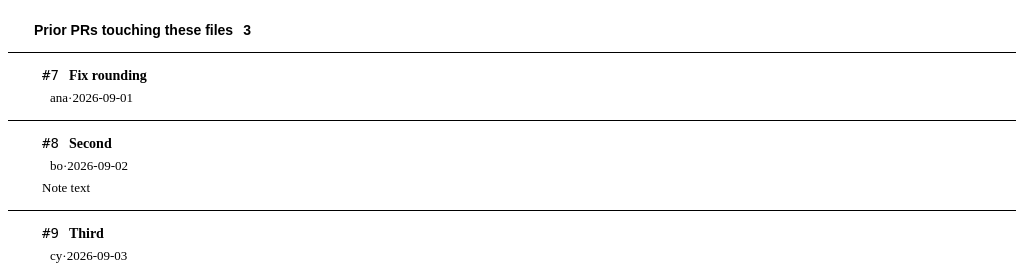
PriorPrsCard › lists merged PRs with a forge link, avatar line and count badge; header collapses
The image size is (1024, 280).
Check: the text "Fix rounding" is shown, box [69,68,147,84]
Check: the text "ana·2026-09-01" is shown, box [50,90,133,106]
Click the button "Prior PRs touching these files 3" at (134,30), box [8,8,1016,52]
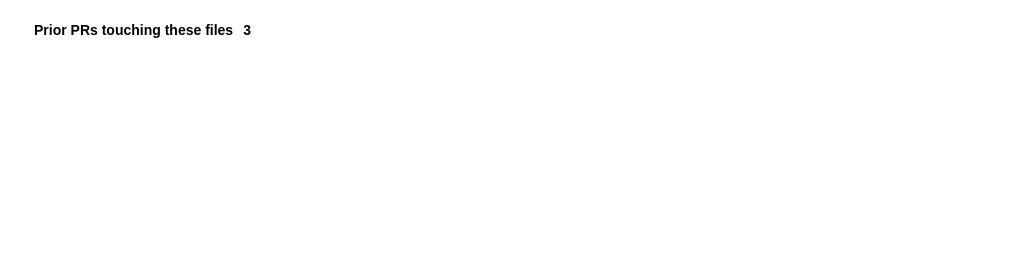
Check: the text "Fix rounding" is gone
